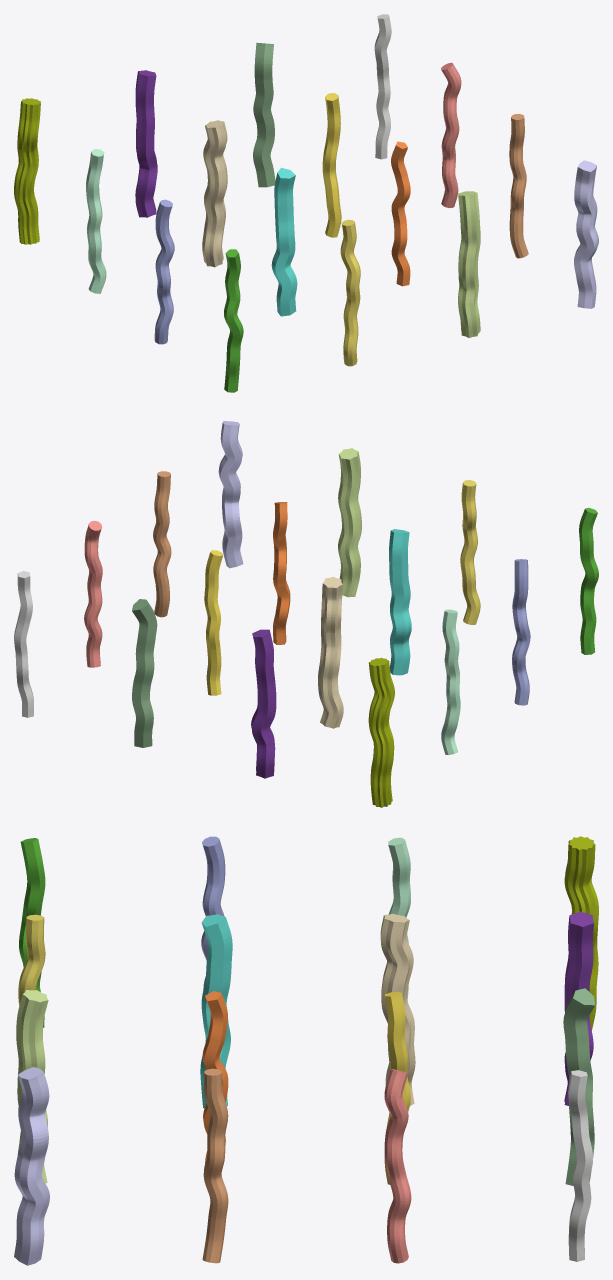
File: Standard_Opened Spline_2023-07-23-20-47-45.gltf
3 renders of one model, top to bottom at view 1: azimuth 30°, elevation 25°; view 2: azimuth 150°, elevation 25°; view 3: azimuth 270°, elevation 25°, orthographic. The views are drawn at different scales.
Bounding box in the file's own units: 639 × 234 × 640.
